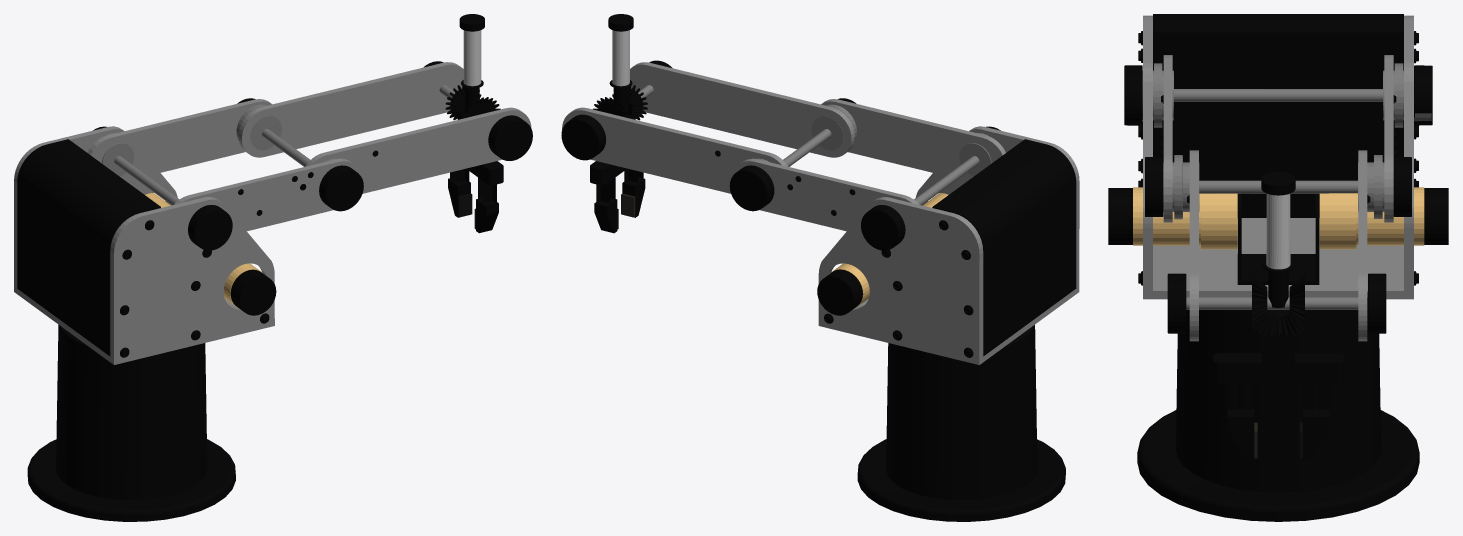
File: ScorbotIK5.fbx
3 renders of one model, left to right at view 1: azimuth 30°, elevation 25°; view 2: azimuth 150°, elevation 25°; view 3: azimuth 270°, elevation 25°, orthographic. The views are drawn at different scales.
Parts seen in each view (by area): view 1: Hombro, Base, Antebrazo, Brazo, Mano; view 2: Hombro, Base, Antebrazo, Brazo, Mano; view 3: Hombro, Base, Mano, Brazo, Antebrazo.
Part boxes in pixels (x1,y1,x2,y2): Hombro: [14, 126, 276, 364]; Base: [27, 324, 235, 521]; Antebrazo: [238, 61, 532, 193]; Brazo: [87, 98, 363, 231]; Mano: [448, 14, 503, 233]; Hombro: [817, 126, 1079, 364]; Base: [857, 325, 1065, 521]; Antebrazo: [561, 60, 854, 193]; Brazo: [729, 98, 1005, 231]; Mano: [590, 14, 645, 233]; Hombro: [1108, 14, 1448, 299]; Base: [1137, 310, 1419, 521]; Mano: [1213, 171, 1344, 459]; Brazo: [1145, 55, 1411, 222]; Antebrazo: [1167, 150, 1386, 341].
Bounding box in the file's own units: 58.33 × 45.77 × 27.76.
